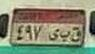4: (16, 24, 24, 41)
7: (33, 25, 43, 40)
9: (25, 24, 33, 40)
baa: (60, 31, 70, 42)
qaaf: (70, 27, 82, 43)
yaa: (49, 28, 60, 41)
